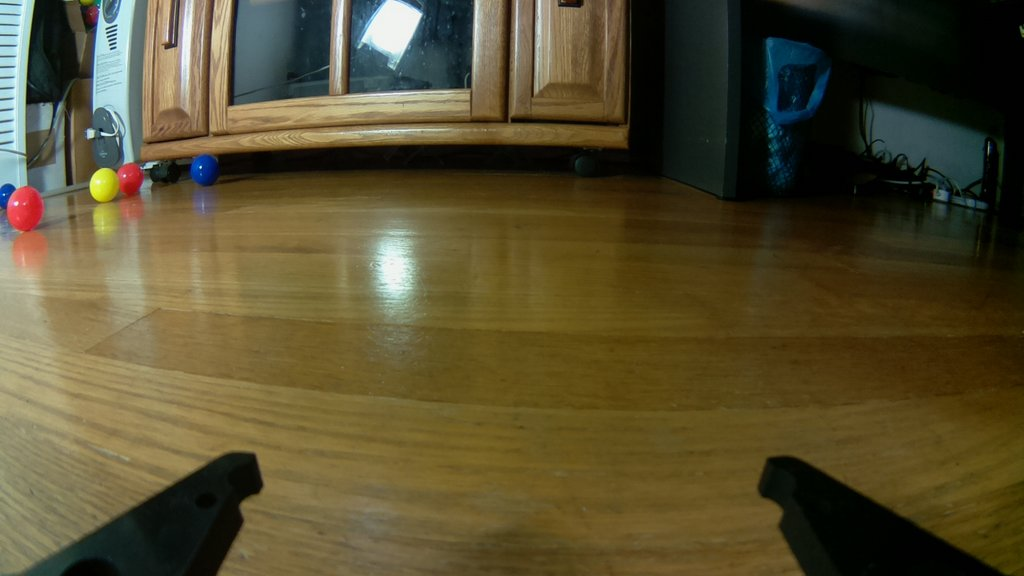home: (88, 166, 120, 202)
